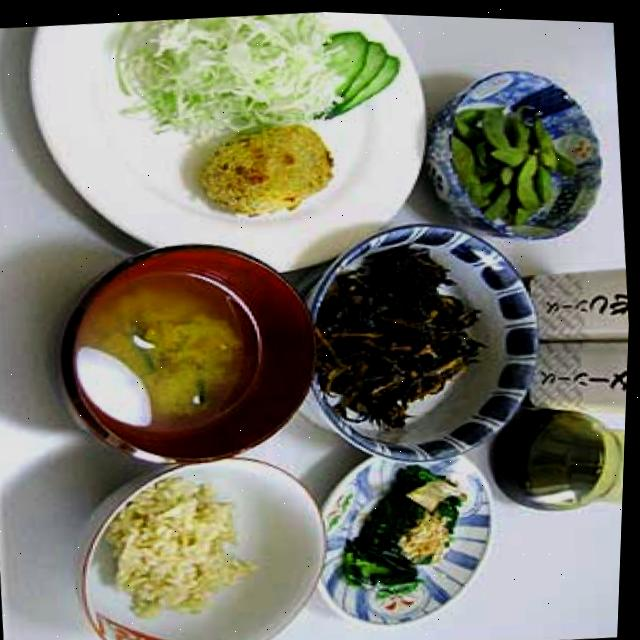汤锅炖物: (71, 233, 331, 482)
